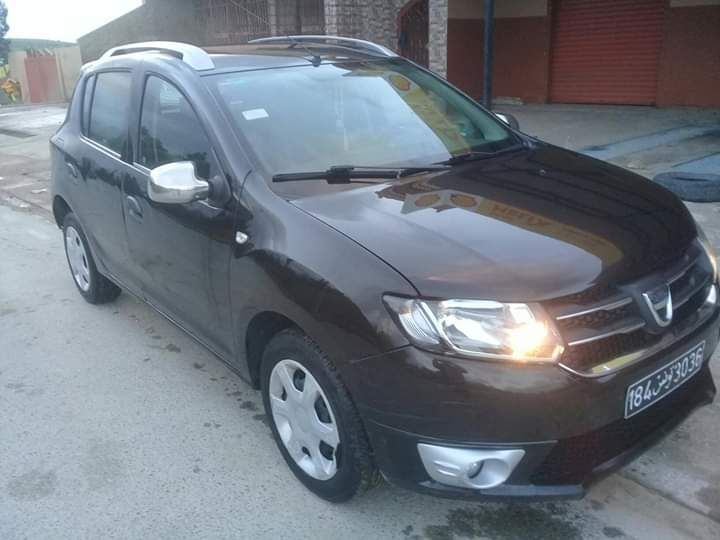LP: (625, 338, 708, 425)
